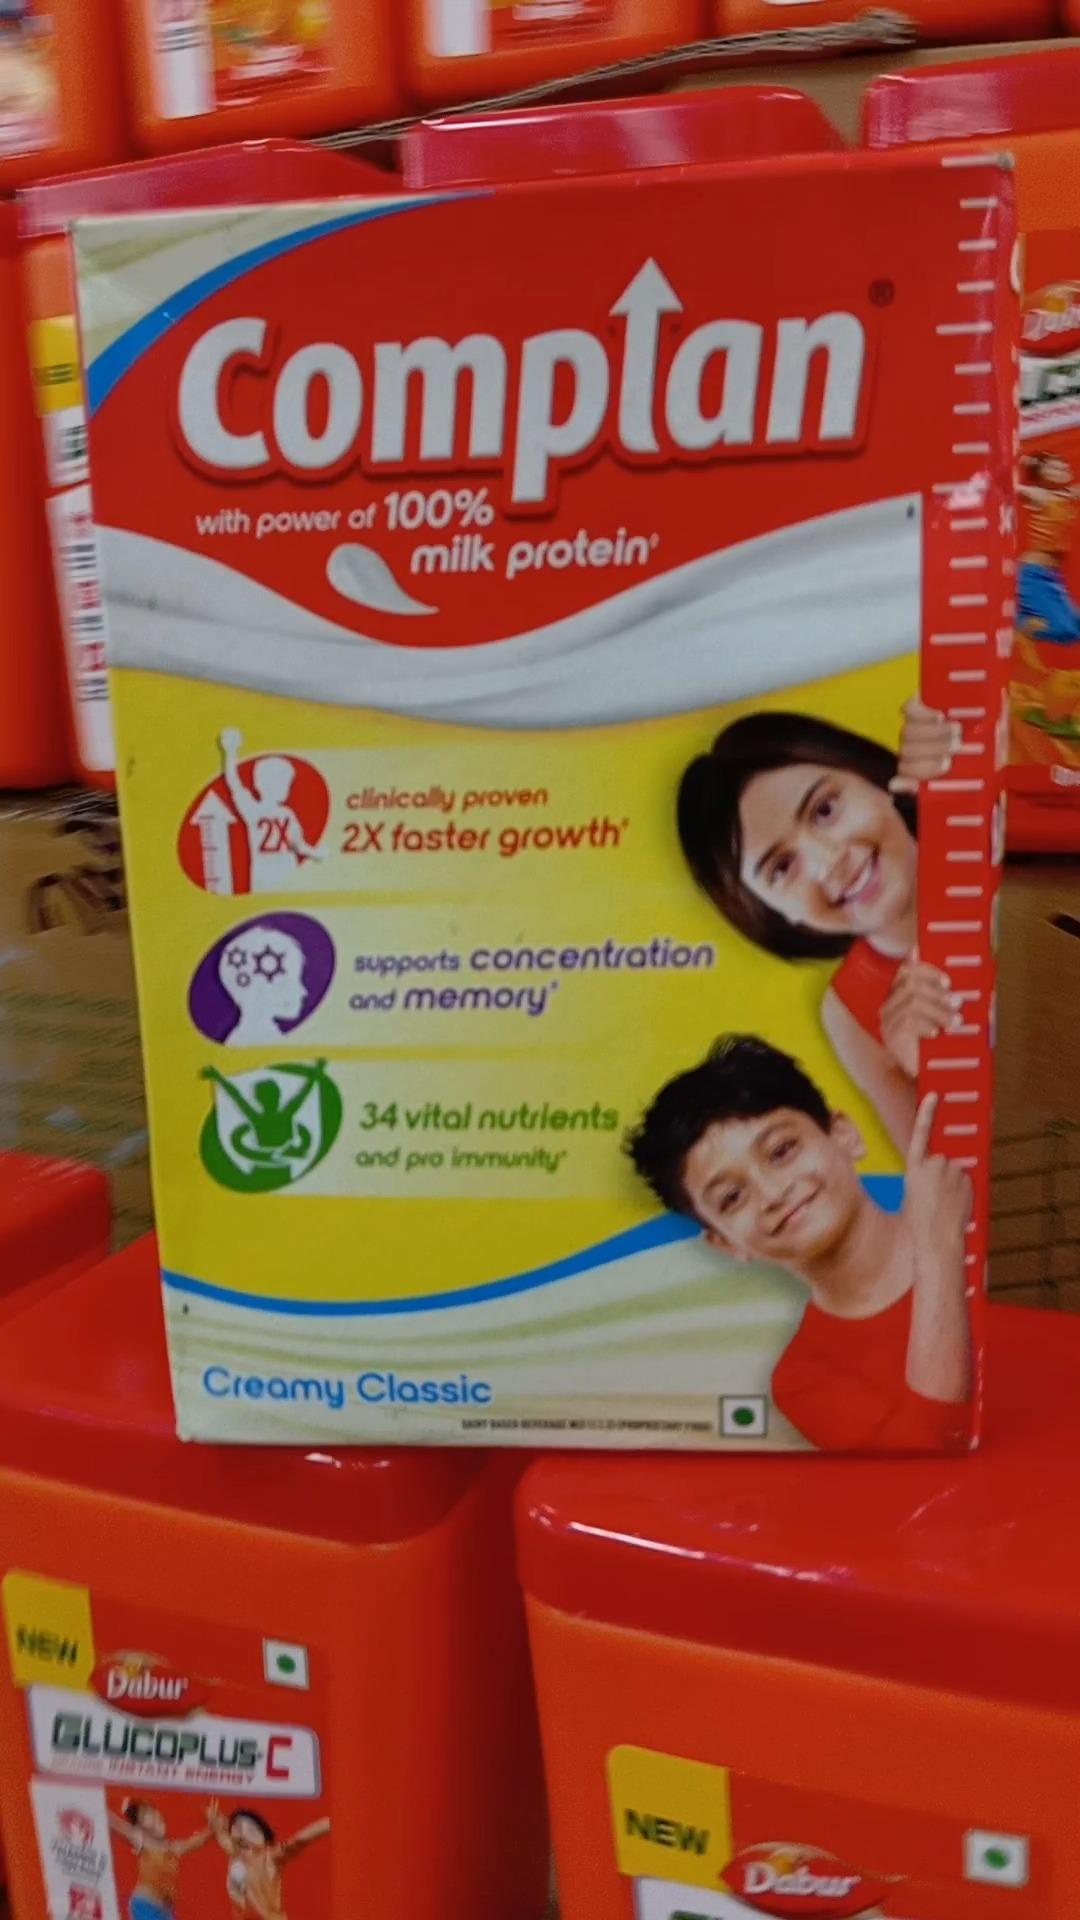COMPLAN_CREAMY_CLASSIC_500_G_PACK: (83, 167, 1007, 1452)
